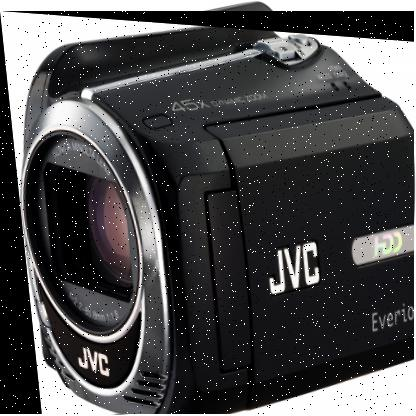Camera: (1, 12, 416, 416)
